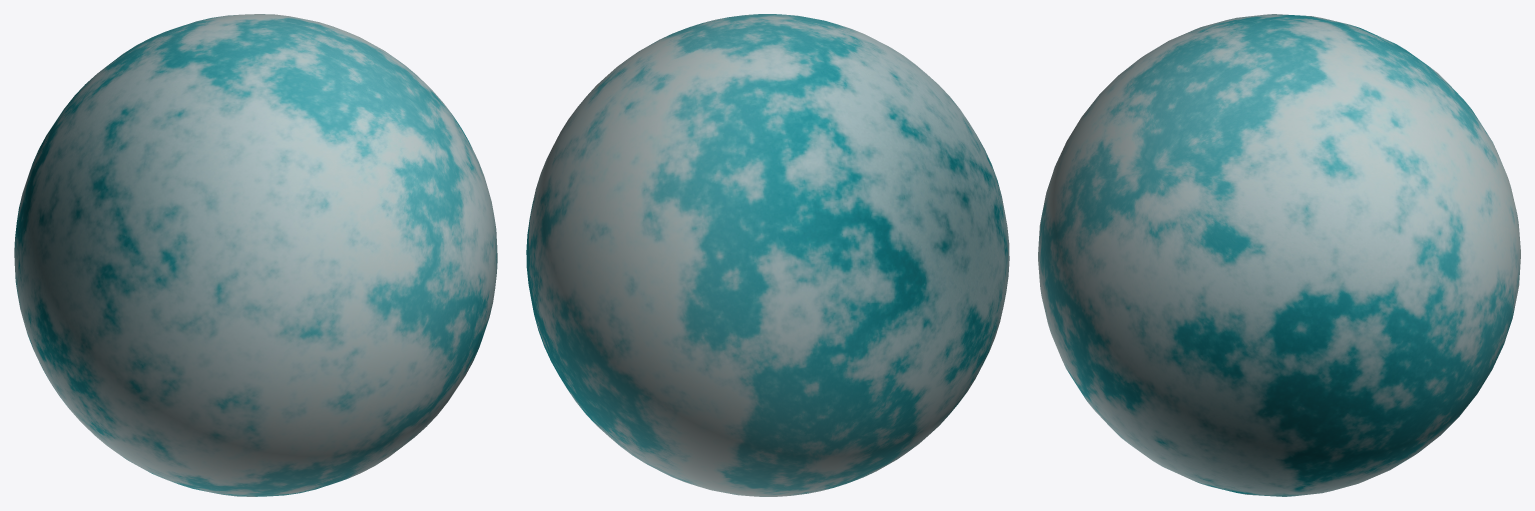
Rendered from blue.glb.
The picture shows the model from 3 angles, left to right: view 1: azimuth 30°, elevation 25°; view 2: azimuth 150°, elevation 25°; view 3: azimuth 270°, elevation 25°; orthographic projection.
Visible parts, largest first — view 1: Сфера.006; view 2: Сфера.006; view 3: Сфера.006.
Part boxes in pixels (<box>): Сфера.006: <box>14,14,497,496</box>; Сфера.006: <box>526,14,1009,496</box>; Сфера.006: <box>1038,14,1520,496</box>.
Size of the model in its own units: 2 by 2 by 2.
Materials: 1 (1 with a texture image).
